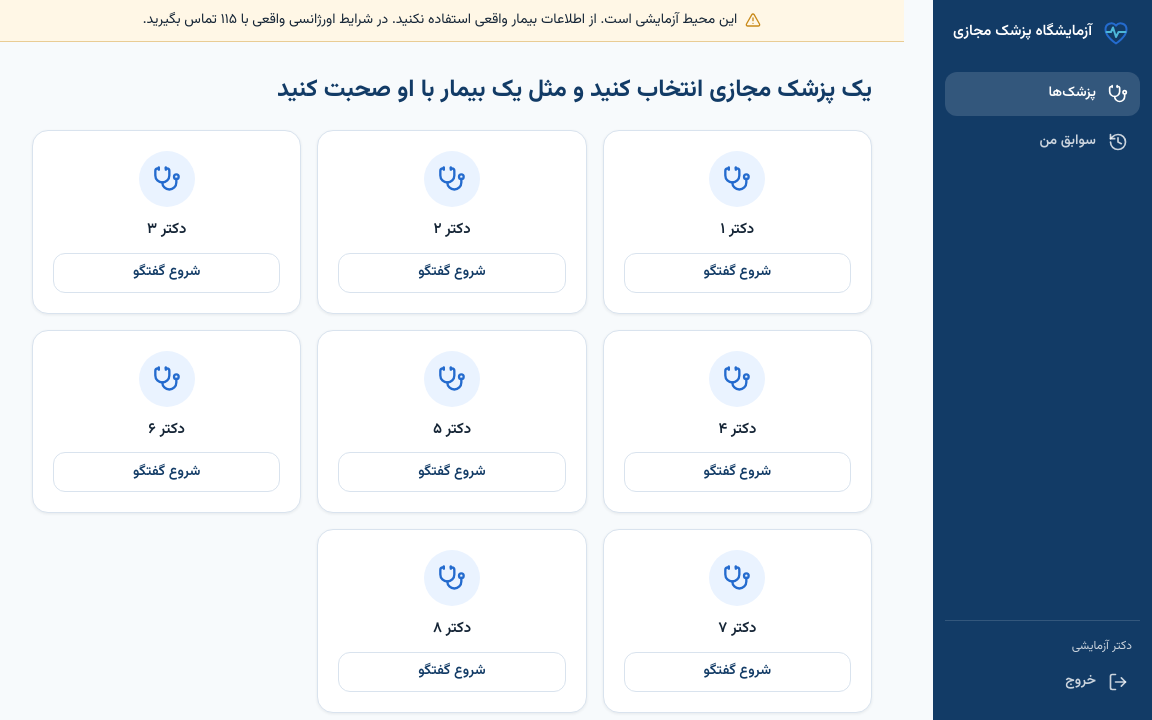
Test: virtual doctors list › creates a session and navigates to it
The width and height of the screenshot is (1152, 720).
Expected: the heading "یک پزشک مجازی انتخاب کنید و مثل یک بیمار با او صحبت کنید" is shown, left=277, top=70, right=872, bottom=108
Step 1. Click the button "شروع گفتگو" below "دکتر ۱" → [737, 273], box left=624, top=253, right=851, bottom=293
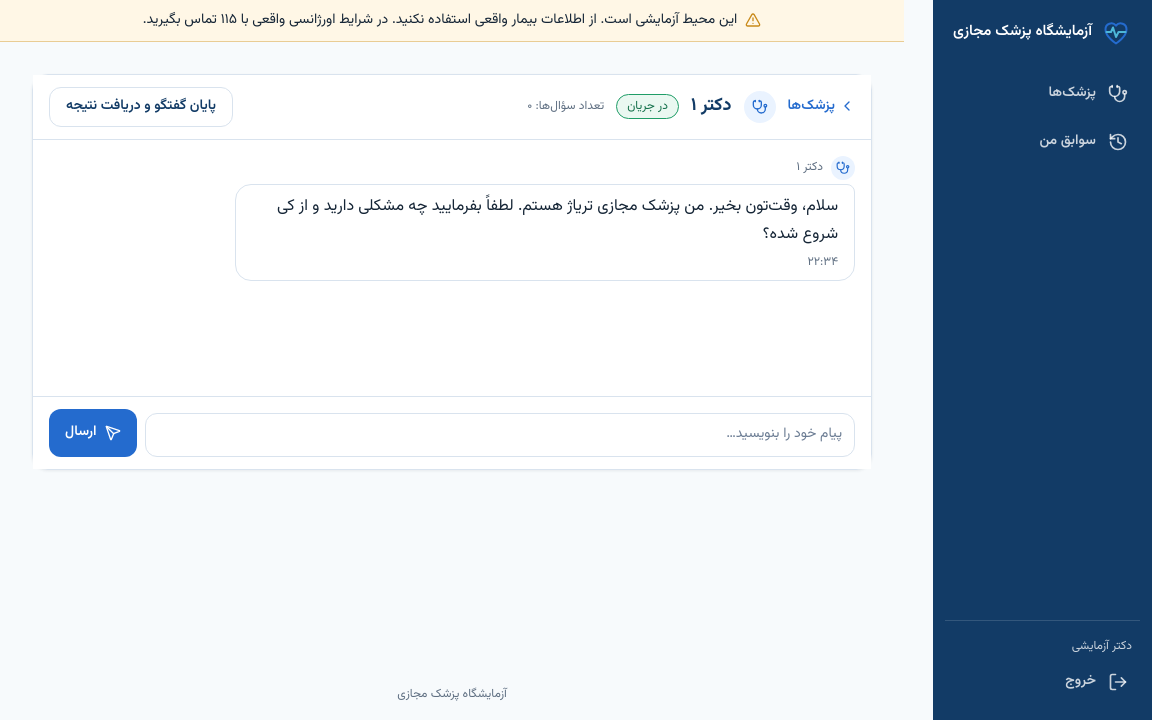
Expected: the text "تعداد سؤال‌ها: ۰" is shown, left=527, top=97, right=604, bottom=116
Expected: the text box labelled "پیام خود را بنویسید…" is empty, left=145, top=412, right=855, bottom=456
